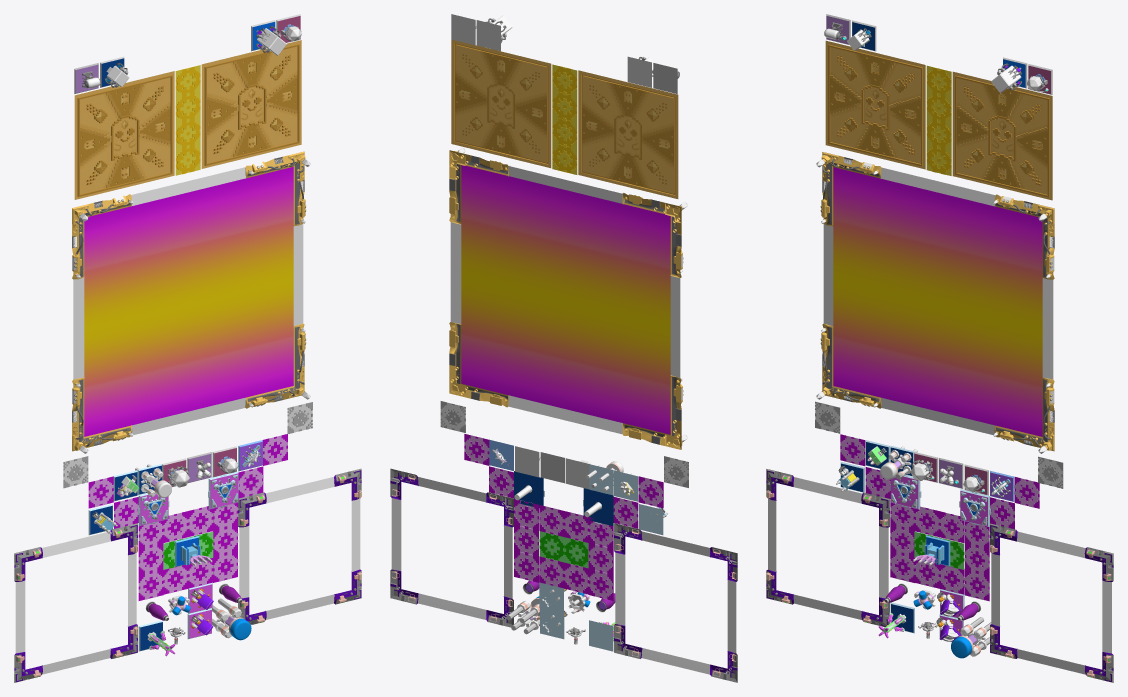
Rendered from Parcel3_Original.fbx.
The picture shows the model from 3 angles, left to right: view 1: azimuth 30°, elevation 25°; view 2: azimuth 150°, elevation 25°; view 3: azimuth 330°, elevation 25°; orthographic projection.
Visible parts, largest first — view 1: Parcel3_Original; view 2: Parcel3_Original; view 3: Parcel3_Original.
Boxes of the visible parts, box(x1,y1,x2,y2) form: Parcel3_Original: box(14, 14, 361, 682); Parcel3_Original: box(390, 14, 737, 682); Parcel3_Original: box(766, 14, 1113, 682).
Size of the model in its own units: 285 by 470 by 44.58.
